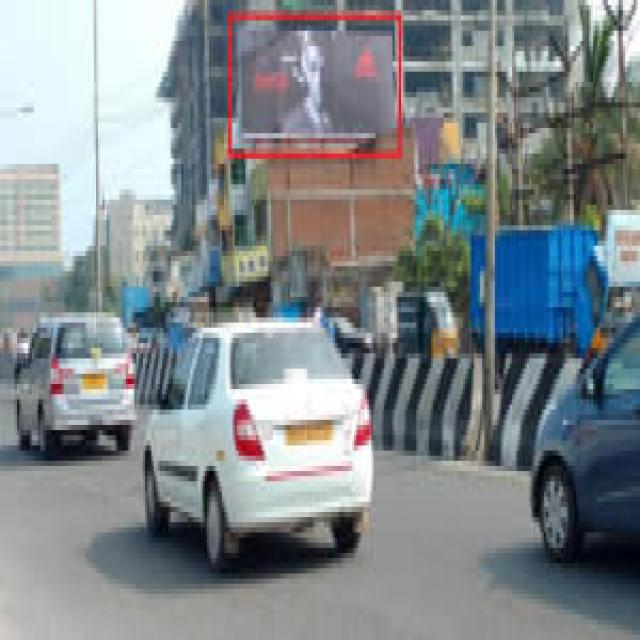Werbetafel frei: (238, 17, 394, 138)
